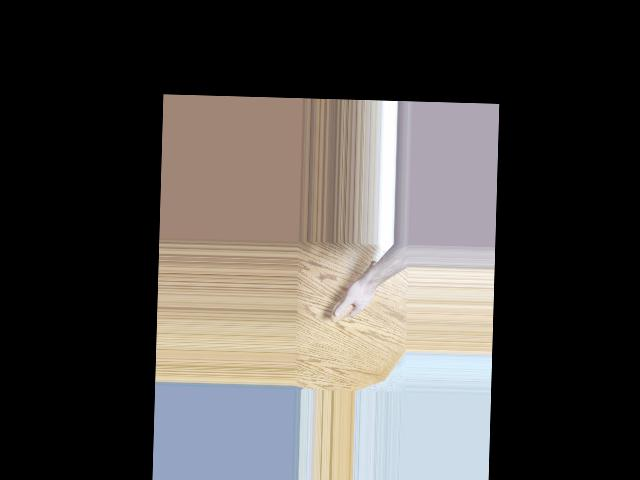sweet_potato: (330, 256, 381, 324)
